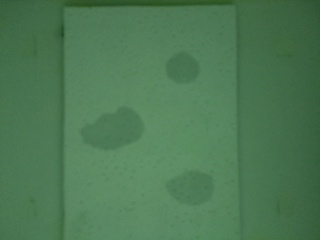Water_detected: (87, 109, 138, 148), (172, 171, 204, 201), (172, 61, 196, 87)
